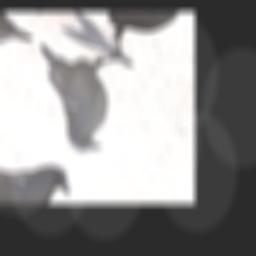Crow: (2, 14, 150, 164)
